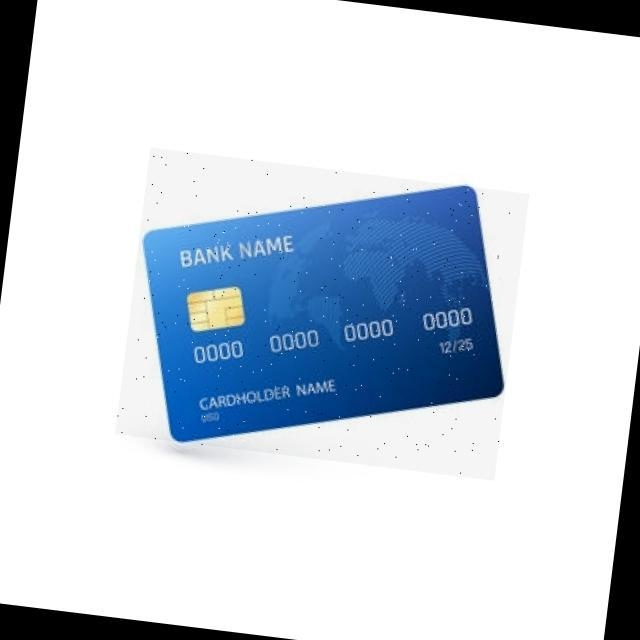payment_card: (142, 184, 505, 444)
